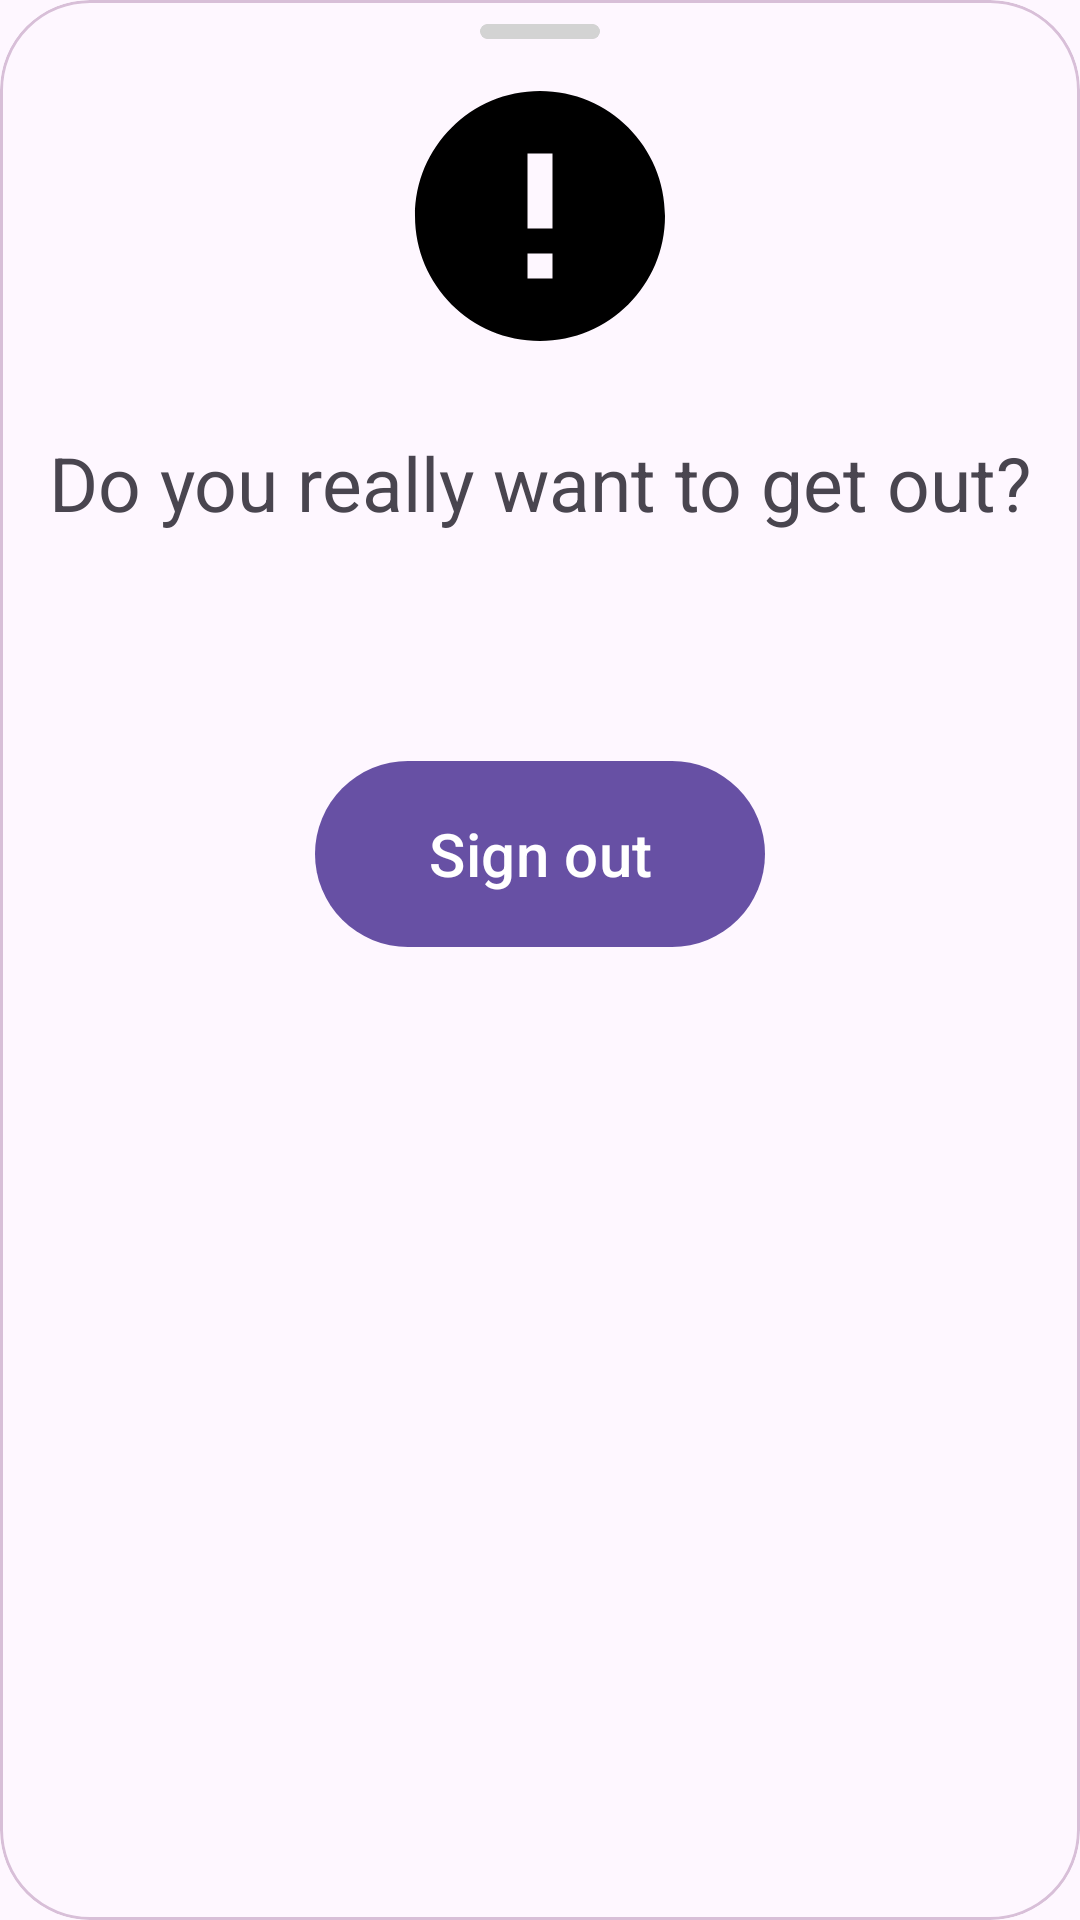

Where icons sit on this 1080 x 1920 app screen, as (x1, y1, x2, y2):
error: (415, 91, 665, 341)
